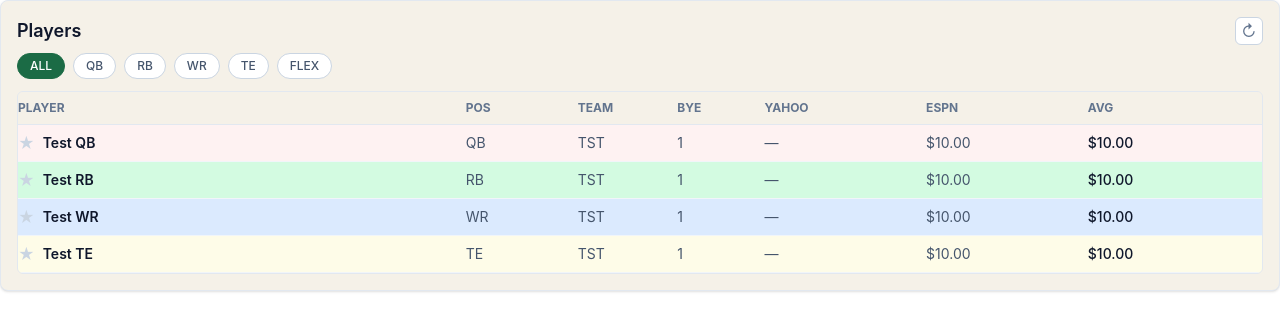
Test: PlayerList FLEX filter › shows a FLEX button and filters to the given eligible positions when the format has one
What coordinates should you click on to do the following:
click the button "FLEX"
I would click on:
 (304, 66)
Its box is [277,53,332,79].
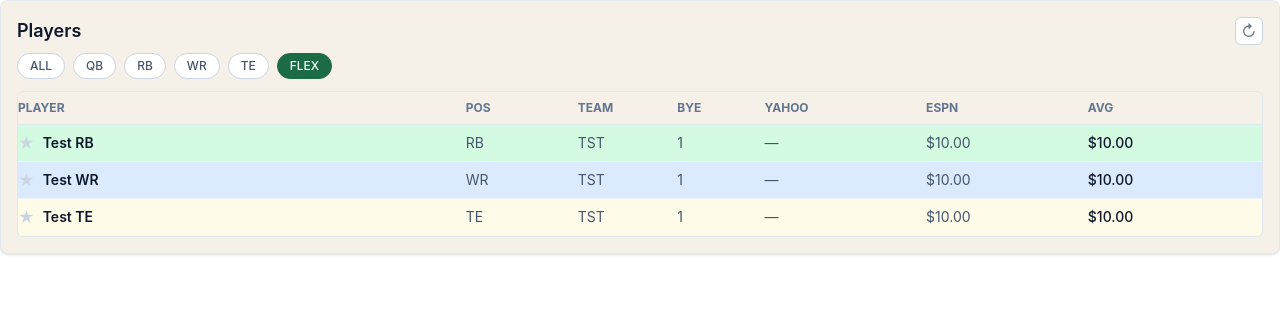
Expected: the button "Test RB" is shown, [43,133,94,153]
Expected: the button "Test QB" is gone
